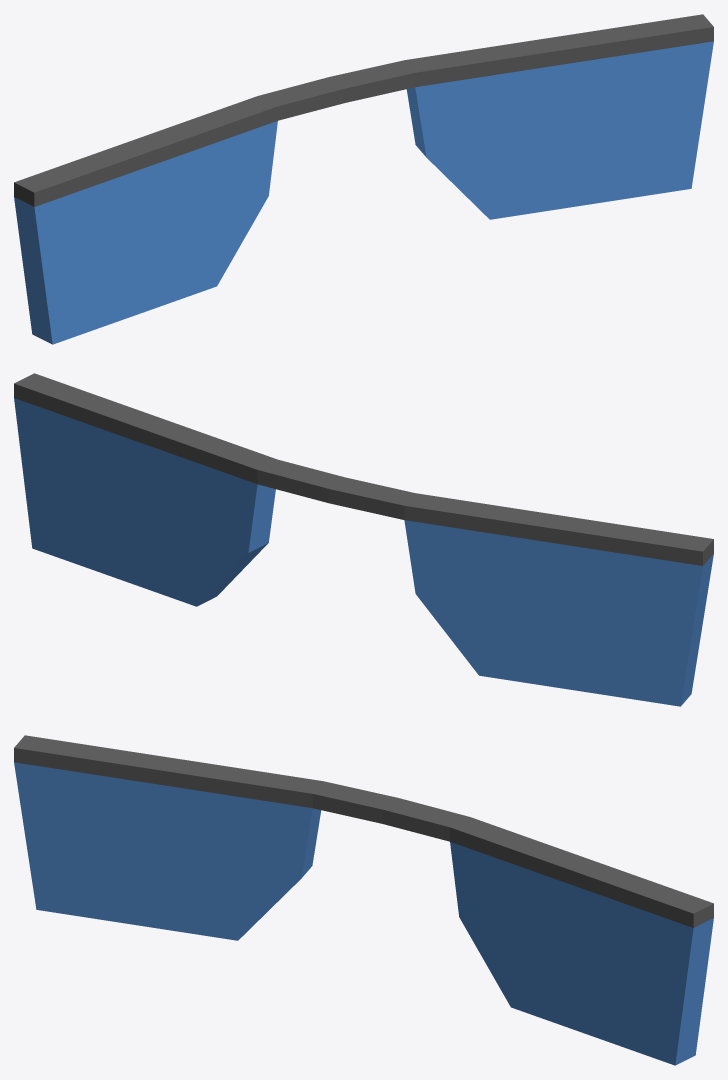
File: glasses_scientist.fbx
3 views of the same model, one above another, from view 1: azimuth 30°, elevation 25°; view 2: azimuth 150°, elevation 25°; view 3: azimuth 330°, elevation 25° (orthographic).
Visible parts, largest first — view 1: glasses_scientist; view 2: glasses_scientist; view 3: glasses_scientist.
Boxes of the visible parts, x1,y1,x2,y2 form: glasses_scientist: [14, 14, 713, 344]; glasses_scientist: [14, 373, 713, 706]; glasses_scientist: [14, 735, 713, 1065].
Size of the model in its own units: 100 by 22 by 11.29.
